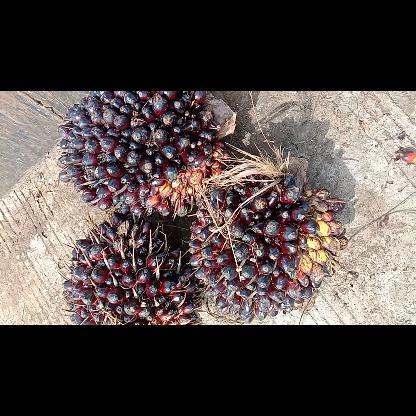TBS mentah: (186, 154, 350, 324), (53, 90, 239, 218), (57, 210, 204, 324)
